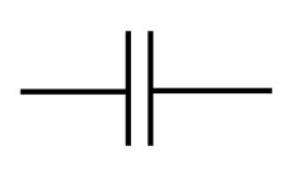Capacitor: (93, 28, 179, 147)
